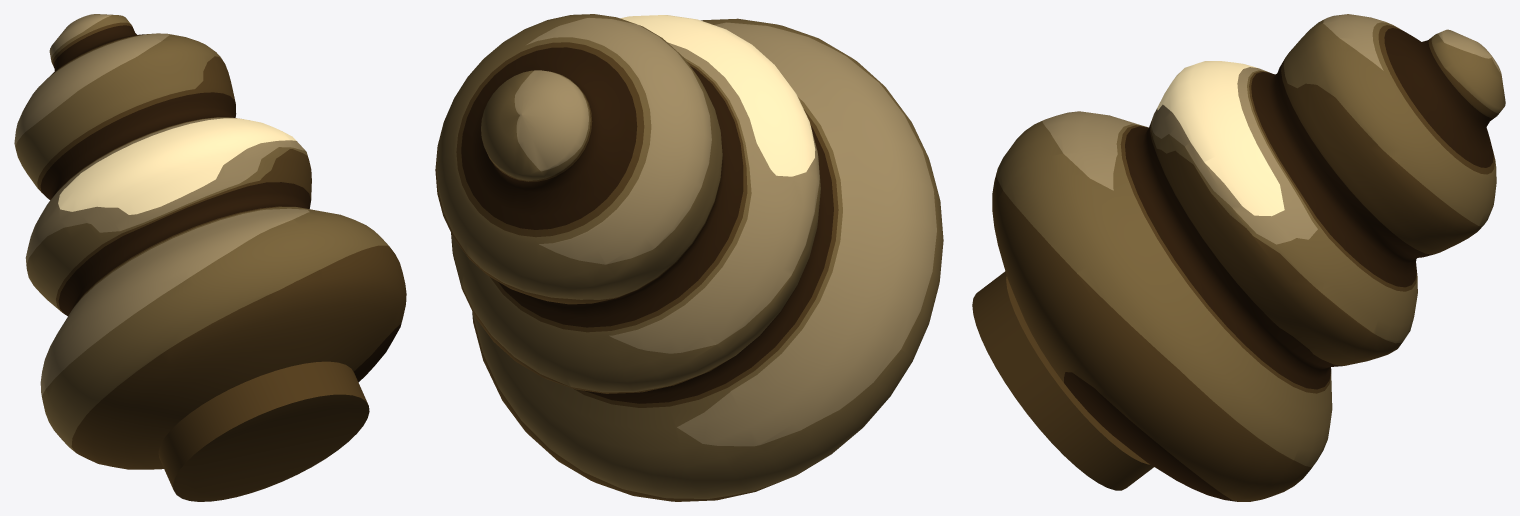
The model's file is pump_dome_117.glb.
3 renders of one model, left to right at view 1: azimuth 30°, elevation 25°; view 2: azimuth 150°, elevation 25°; view 3: azimuth 270°, elevation 25°, orthographic. The views are drawn at different scales.
Parts seen in each view (by area): view 1: pump_dome_117; view 2: pump_dome_117; view 3: pump_dome_117.
Boxes of the visible parts, bbox=[...] form: pump_dome_117: bbox=[14, 14, 406, 501]; pump_dome_117: bbox=[435, 14, 943, 501]; pump_dome_117: bbox=[972, 14, 1505, 501].
Size of the model in its own units: 19.2 by 21.35 by 22.97.
